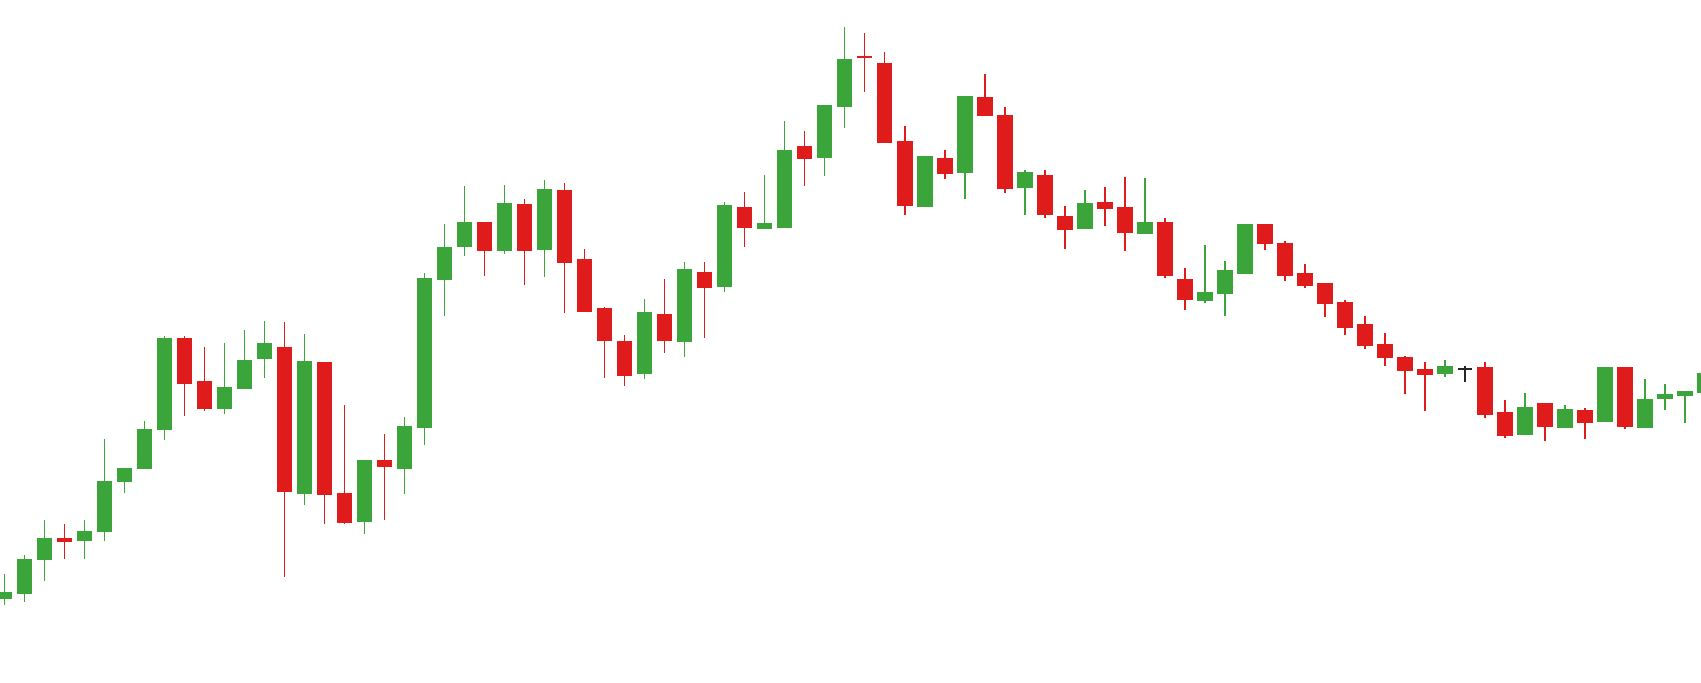buy: (435, 237, 656, 385)
